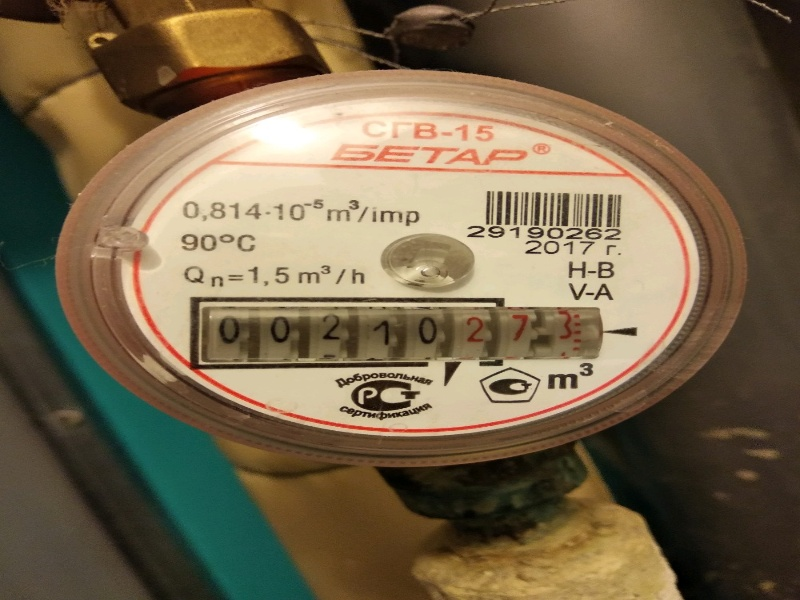dial: (205, 306, 595, 354)
